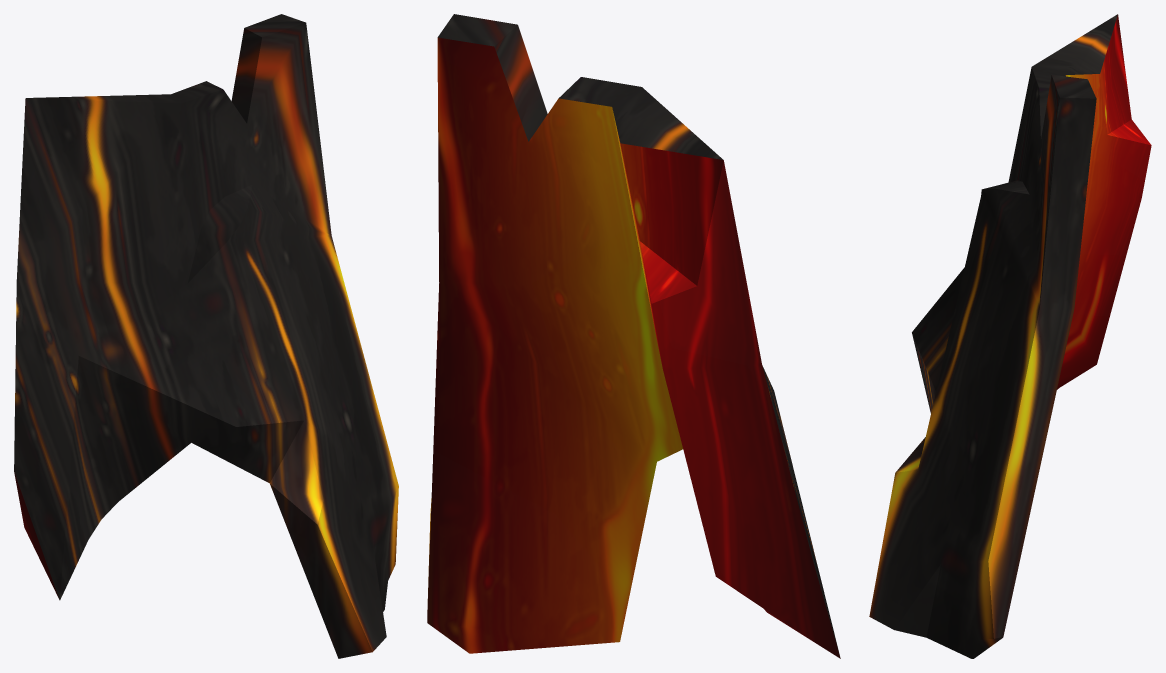
The model's file is p_mesh_hvs_burntforest_rootbase05.fbx.
3 views of the same model, side by side, from view 1: azimuth 30°, elevation 25°; view 2: azimuth 150°, elevation 25°; view 3: azimuth 270°, elevation 25° (orthographic). The views are drawn at different scales.
Parts seen in each view (by area): view 1: p_mesh_hvs_burntforest_rootbase05; view 2: p_mesh_hvs_burntforest_rootbase05; view 3: p_mesh_hvs_burntforest_rootbase05.
Part boxes in pixels (x1=…): p_mesh_hvs_burntforest_rootbase05: x1=14, y1=14, x2=398, y2=658; p_mesh_hvs_burntforest_rootbase05: x1=427, y1=14, x2=840, y2=658; p_mesh_hvs_burntforest_rootbase05: x1=869, y1=14, x2=1151, y2=658.
Bounding box in the file's own units: 3.33 × 5.13 × 2.4.
